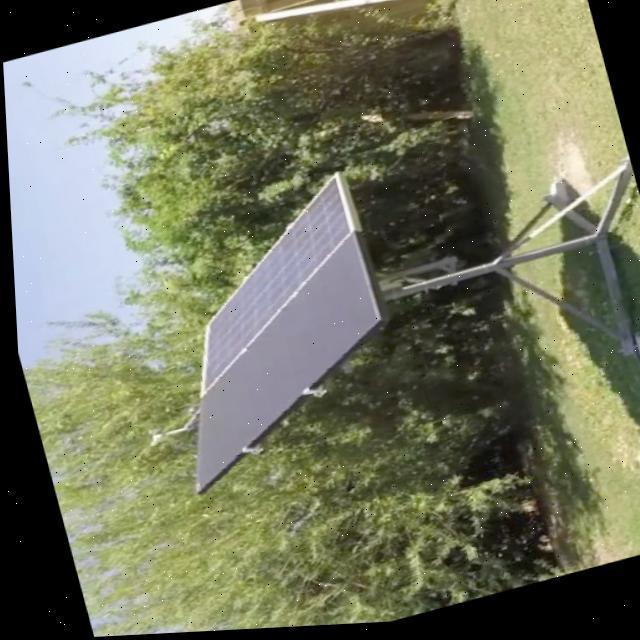Normal Solar Panel: (138, 232, 412, 495), (156, 173, 386, 390)
